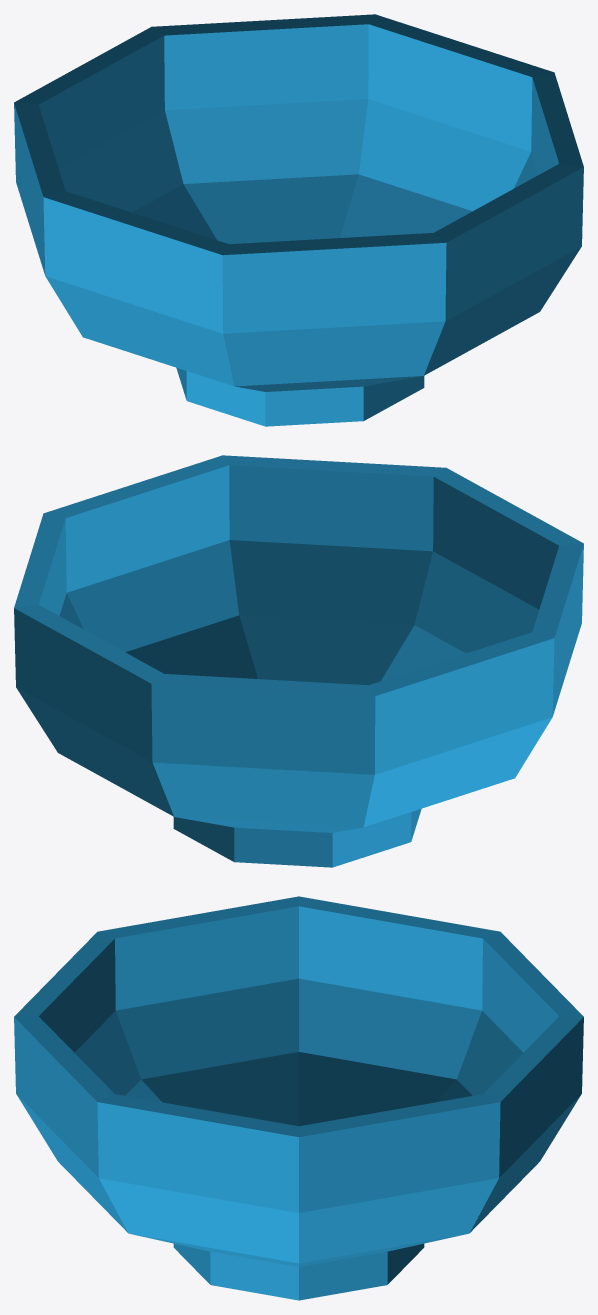
The model's file is Bowl 3.fbx.
The picture shows the model from 3 angles, top to bottom: view 1: azimuth 30°, elevation 25°; view 2: azimuth 150°, elevation 25°; view 3: azimuth 270°, elevation 25°; orthographic projection. The views are drawn at different scales.
Parts seen in each view (by area): view 1: Node 0; view 2: Node 0; view 3: Node 0.
Boxes of the visible parts, x1,y1,x2,y2 form: Node 0: (14,14,583,426); Node 0: (14,455,583,867); Node 0: (14,896,583,1300).
Size of the model in its own units: 0.2306 by 0.1033 by 0.2306.
